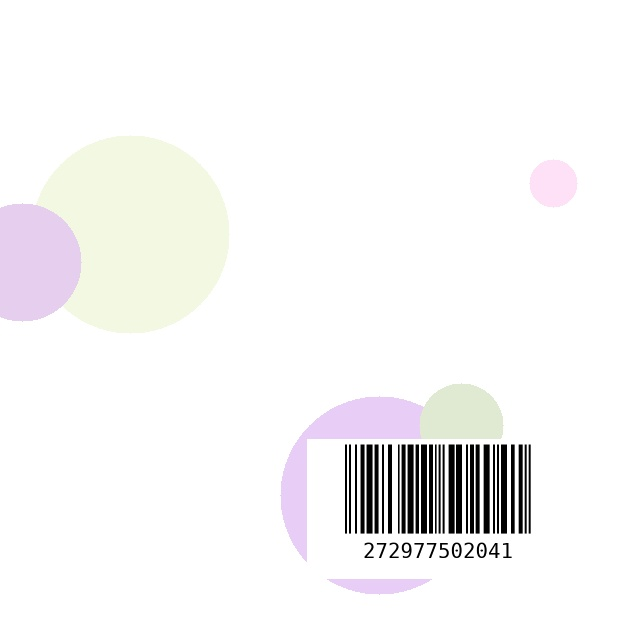barcode: (307, 439, 569, 579)
